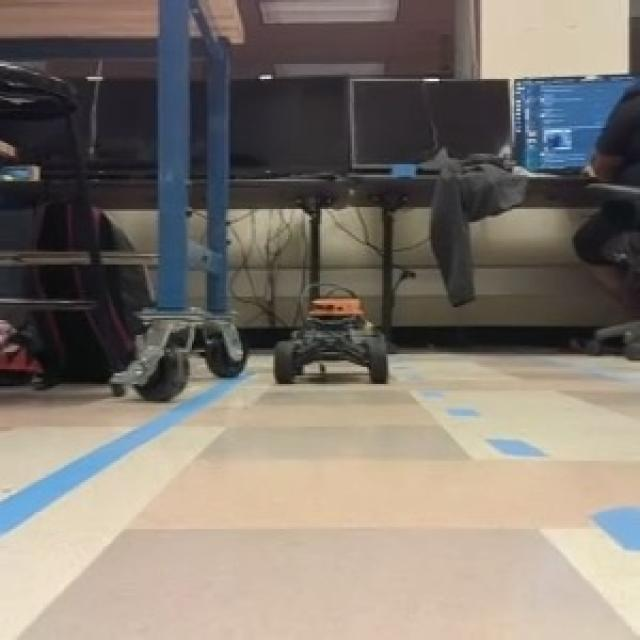obstacle: (272, 296, 390, 386)
